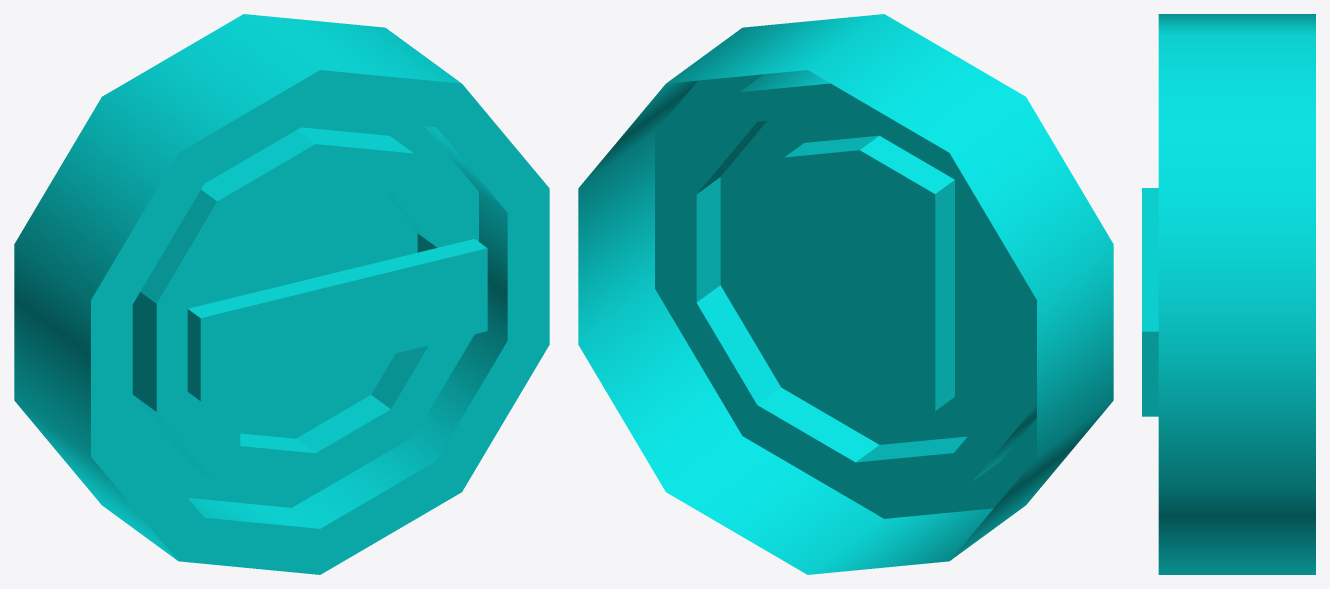
Rendered from build_prop_Luke_03.fbx.
3 renders of one model, left to right at view 1: azimuth 30°, elevation 25°; view 2: azimuth 150°, elevation 25°; view 3: azimuth 270°, elevation 25°, orthographic. The views are drawn at different scales.
Parts seen in each view (by area): view 1: build_prop_Luke_03; view 2: build_prop_Luke_03; view 3: build_prop_Luke_03.
Boxes of the visible parts, x1,y1,x2,y2 form: build_prop_Luke_03: (14,14,549,574); build_prop_Luke_03: (578,14,1113,574); build_prop_Luke_03: (1142,14,1315,574).
Size of the model in its own units: 54.44 by 57.24 by 17.41.
